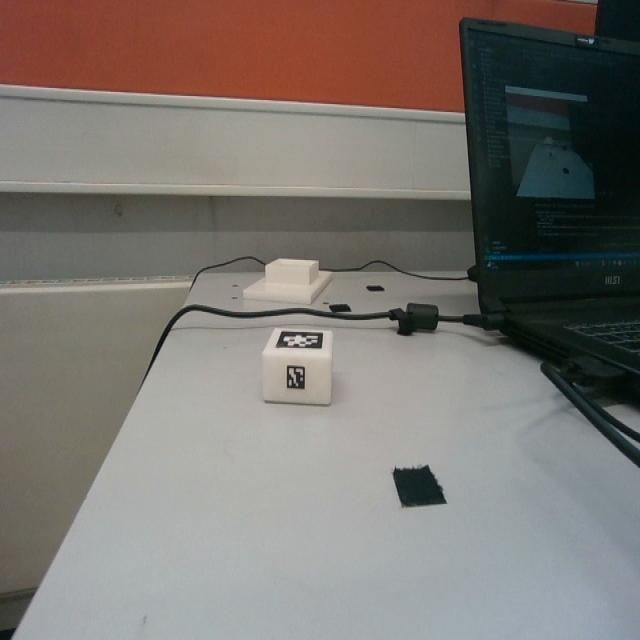Cube: (262, 325, 335, 404)
